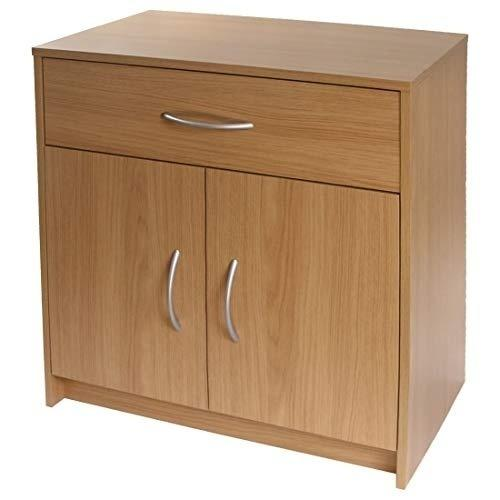cabinet_door: (213, 184, 403, 415), (44, 166, 201, 397), (42, 78, 397, 166)
handle: (160, 109, 260, 136), (219, 254, 244, 342), (162, 245, 186, 331)
